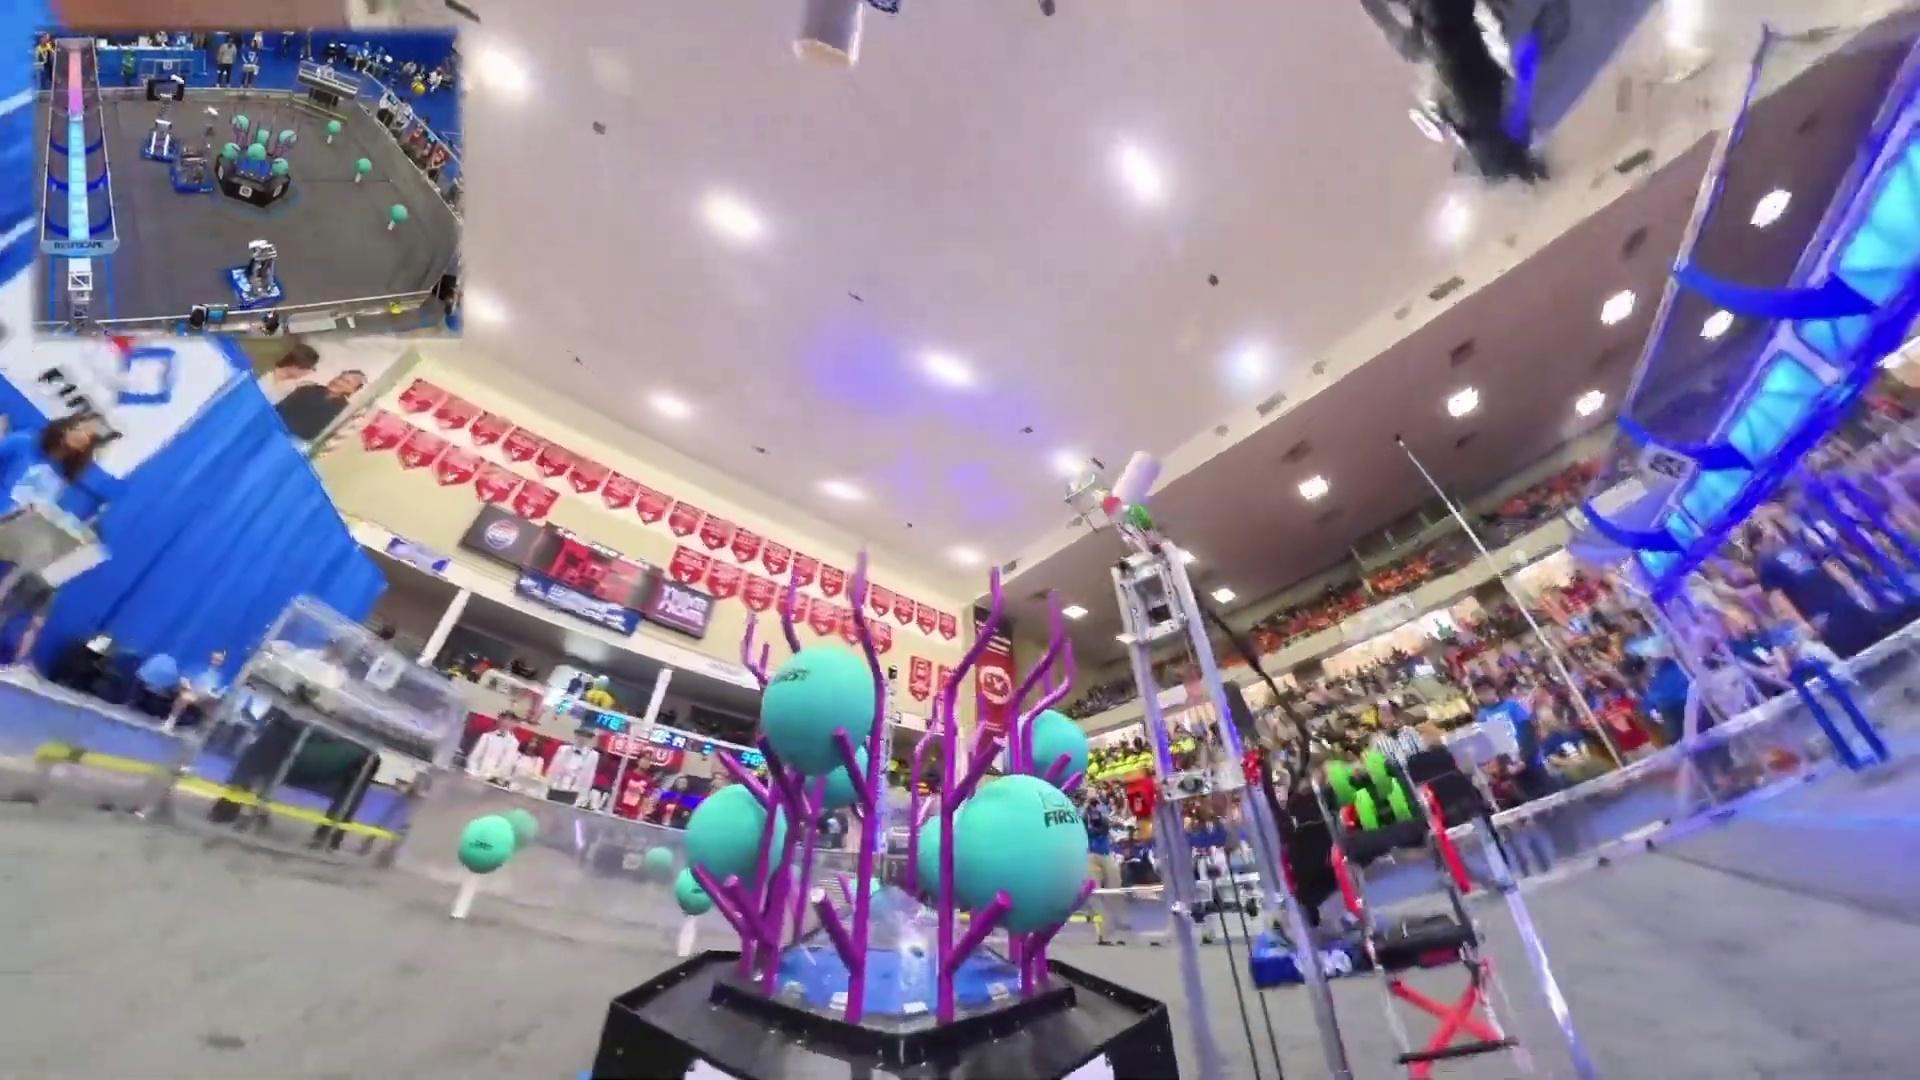robot: (1250, 910, 1377, 989), (223, 240, 286, 309), (141, 94, 178, 162), (170, 154, 215, 195)
